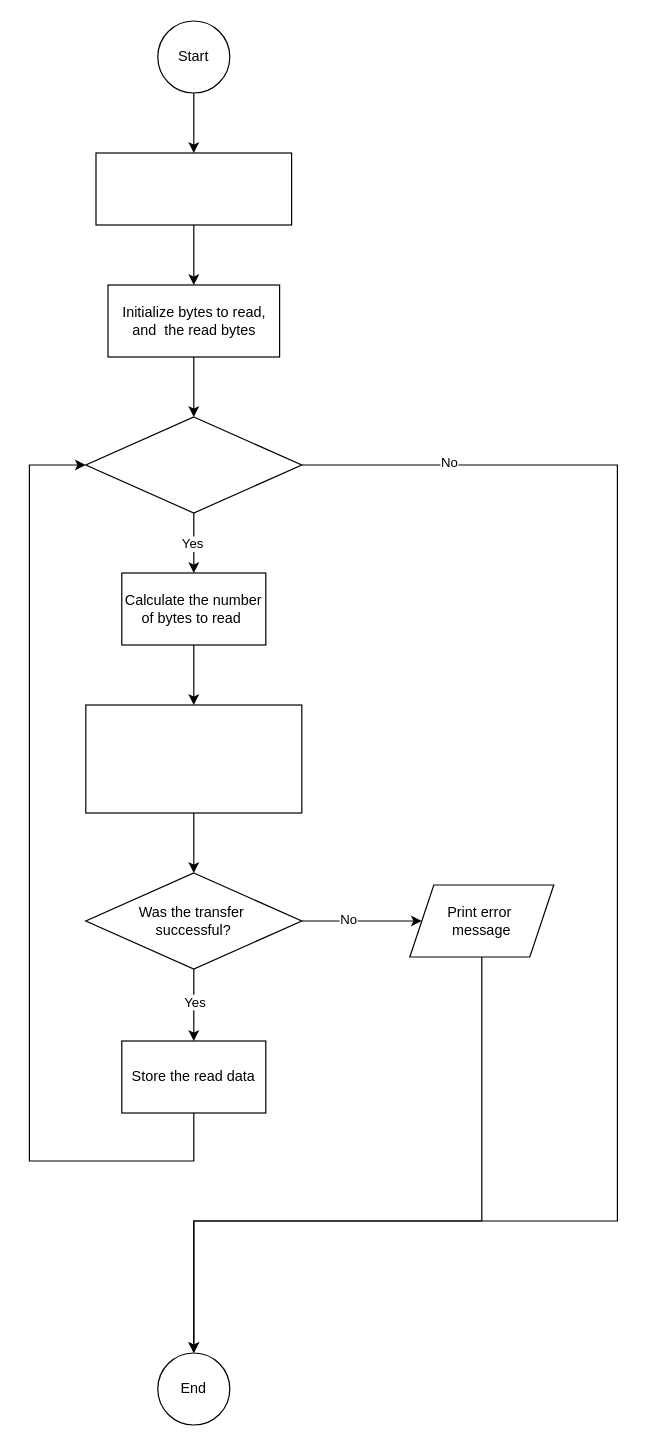
This 648x1446 diagram has some shape labels left out. Here are the shapes that lost their labels. From the top down, the centre of each, then its label:
At (x=193, y=188): "Move to the [0x00, 0x00] subaddress of the FRAM".
At (x=193, y=464): "Are there remaining bytes to read?".
At (x=193, y=758): "Perform I3C read to retrieve the data slice in the I2C FRAM".
